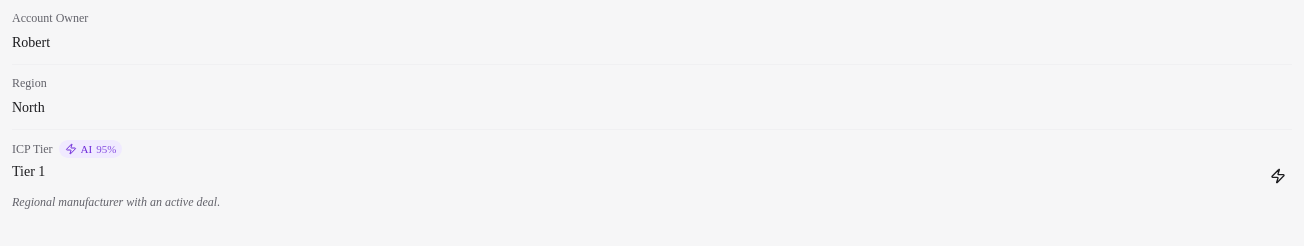
it: AttributePanel › shows why an AI run failed
This screenshot has width=1304, height=246.
What coordinates should you click on to do the following:
click the button titled "recompute with ai"
I would click on:
 (1278, 176)
Its box is [1264,162,1292,190].
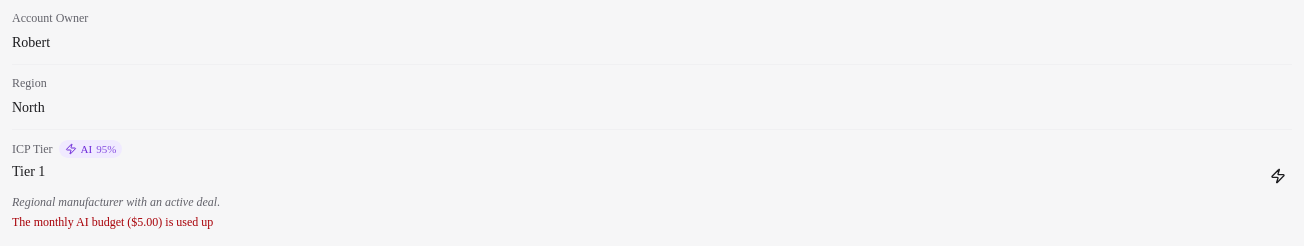
Expected: the text "The monthly AI budget ($5.00) is used up" is shown, [12,215,213,229]
